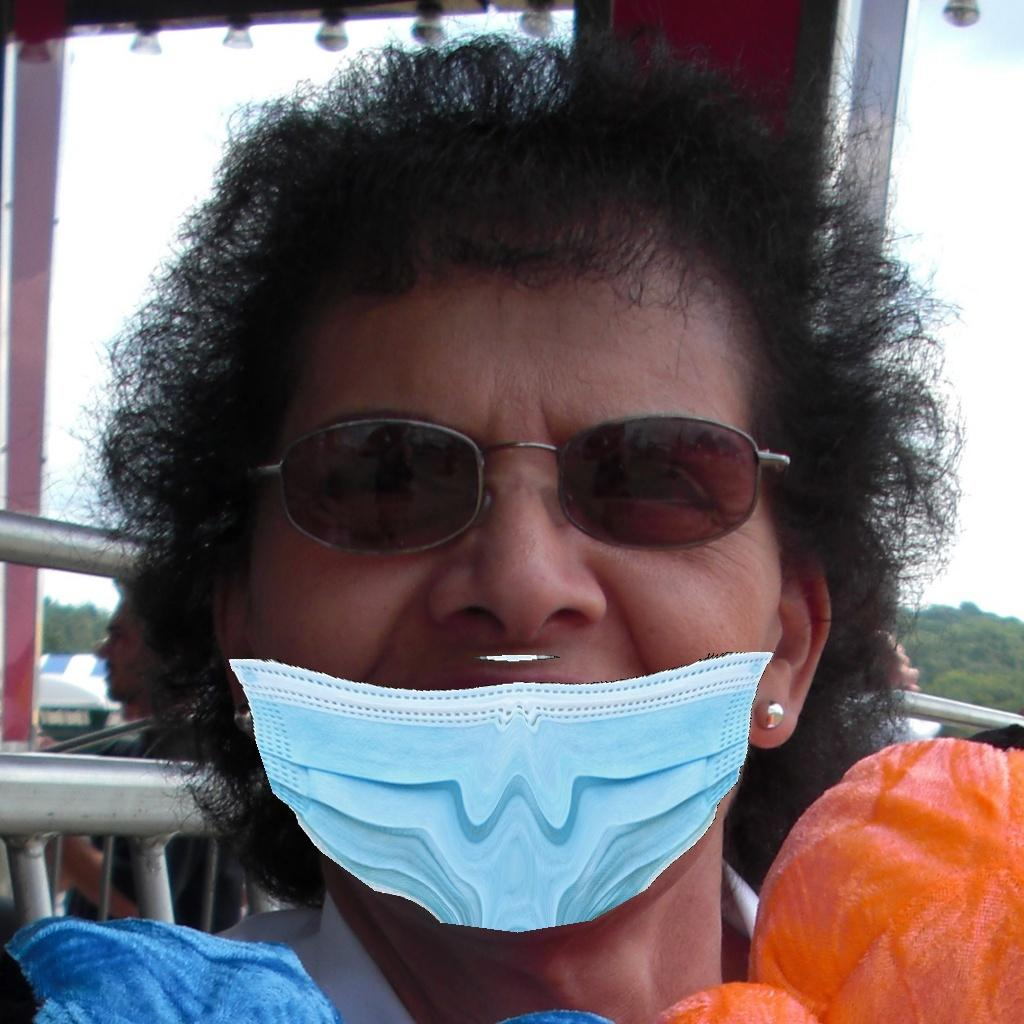Máscara Incorreta: (226, 336, 815, 938)
